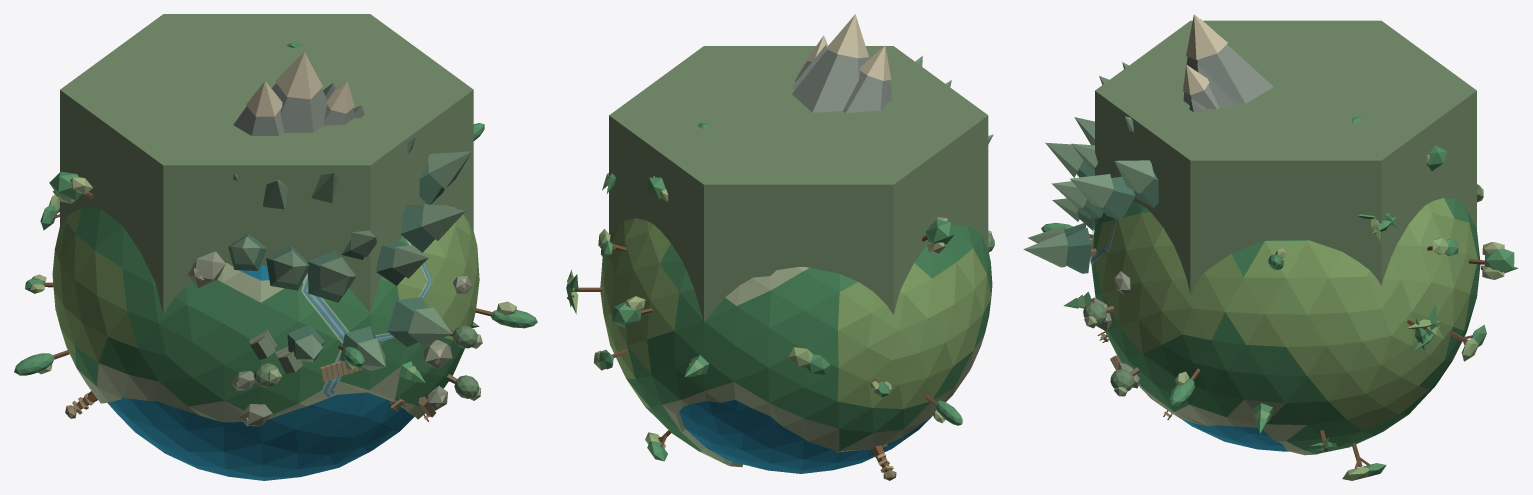
Rendered from earth-mobile.glb.
3 views of the same model, side by side, from view 1: azimuth 30°, elevation 25°; view 2: azimuth 150°, elevation 25°; view 3: azimuth 270°, elevation 25° (orthographic). The views are drawn at different scales.
Visible parts, largest first — view 1: Life_vessel_canoe_extra1 • modeled surfaces, Terrain • modeled surfaces, Structures • modeled surfaces; view 2: Life_vessel_canoe_extra1 • modeled surfaces, Terrain • modeled surfaces, Structures • modeled surfaces; view 3: Life_vessel_canoe_extra1 • modeled surfaces, Terrain • modeled surfaces, Structures • modeled surfaces.
Part boxes in pixels (x1=…): Life_vessel_canoe_extra1 • modeled surfaces: x1=60, y1=14, x2=473, y2=314; Terrain • modeled surfaces: x1=52, y1=205, x2=479, y2=480; Structures • modeled surfaces: x1=14, y1=42, x2=537, y2=426; Life_vessel_canoe_extra1 • modeled surfaces: x1=609, y1=46, x2=988, y2=323; Terrain • modeled surfaces: x1=600, y1=218, x2=992, y2=473; Structures • modeled surfaces: x1=566, y1=14, x2=994, y2=480; Life_vessel_canoe_extra1 • modeled surfaces: x1=1095, y1=20, x2=1476, y2=294; Terrain • modeled surfaces: x1=1091, y1=198, x2=1480, y2=455; Structures • modeled surfaces: x1=1023, y1=14, x2=1518, y2=480.
Size of the model in its own units: 2.39 by 2.4 by 2.59.
